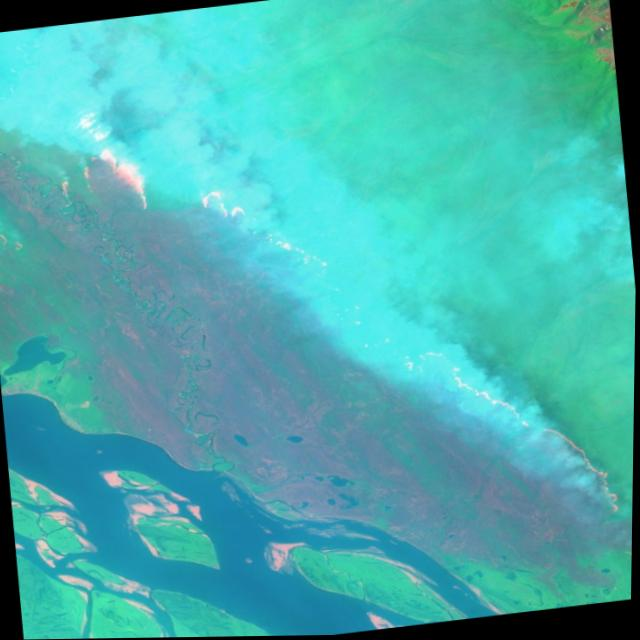fire: (0, 82, 639, 631)
